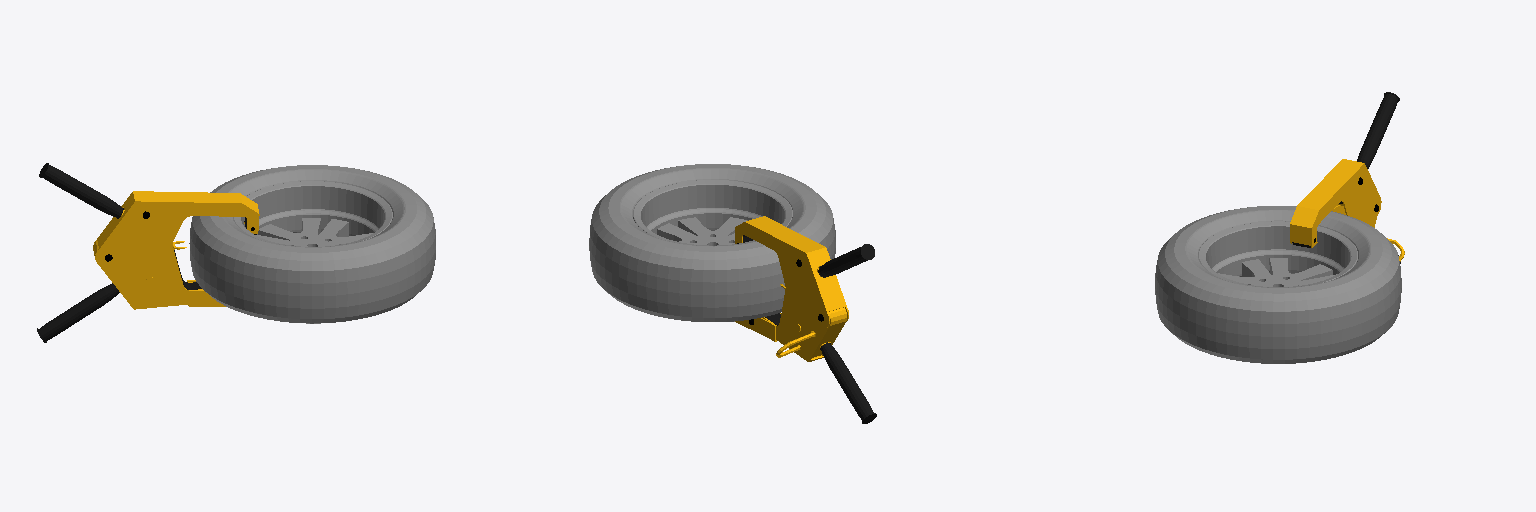
3 views of the same model, side by side, from view 1: azimuth 30°, elevation 25°; view 2: azimuth 150°, elevation 25°; view 3: azimuth 270°, elevation 25° (orthographic).
Visible parts, largest first — view 1: wheel_pivot, clip_1_1_pivot, rim_pivot, clip_2_1_pivot, disk_pivot, handle_1_pivot, handle_2_pivot; view 2: wheel_pivot, rim_pivot, clip_1_1_pivot, clip_2_1_pivot, disk_pivot, handle_2_pivot, handle_1_pivot; view 3: wheel_pivot, rim_pivot, clip_1_1_pivot, disk_pivot, handle_1_pivot.
Part boxes in pixels (x1,y1,x2,y2): wheel_pivot: (189, 165, 435, 323); clip_1_1_pivot: (93, 191, 259, 266); rim_pivot: (233, 181, 392, 246); clip_2_1_pivot: (93, 241, 202, 309); disk_pivot: (256, 218, 372, 246); handle_1_pivot: (39, 163, 123, 218); handle_2_pivot: (37, 283, 119, 342); wheel_pivot: (589, 164, 835, 321); rim_pivot: (633, 180, 792, 245); clip_1_1_pivot: (735, 216, 848, 327); clip_2_1_pivot: (762, 289, 846, 361); disk_pivot: (657, 217, 747, 245); handle_2_pivot: (820, 342, 876, 423); handle_1_pivot: (818, 244, 874, 277); wheel_pivot: (1155, 206, 1401, 363); rim_pivot: (1198, 221, 1357, 287); clip_1_1_pivot: (1290, 159, 1381, 247); disk_pivot: (1218, 258, 1336, 286); handle_1_pivot: (1357, 92, 1399, 168).
Bounding box in the file's own units: 102 × 53.41 × 67.64.
1 materials, 1 textured.